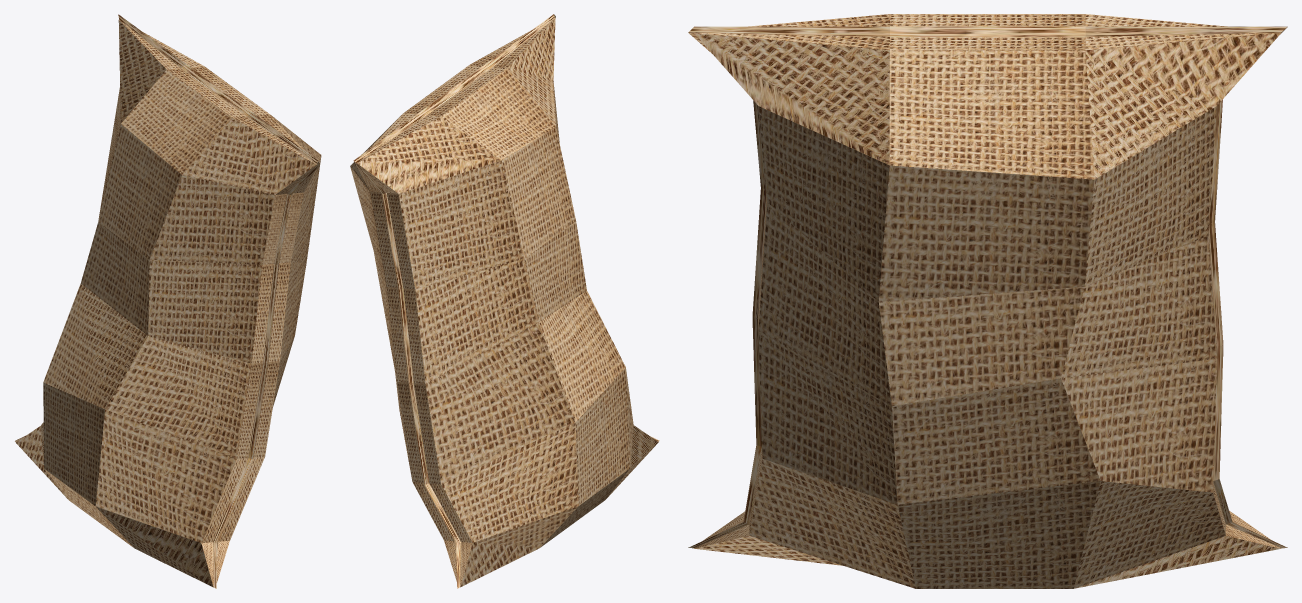
File: sack(big).fbx
The picture shows the model from 3 angles, left to right: view 1: azimuth 30°, elevation 25°; view 2: azimuth 150°, elevation 25°; view 3: azimuth 270°, elevation 25°; orthographic projection. The views are drawn at different scales.
Visible parts, largest first — view 1: Cube; view 2: Cube; view 3: Cube.
Boxes of the visible parts, left/top/right/bottom form: Cube: left=15, top=14, right=321, bottom=588; Cube: left=350, top=14, right=659, bottom=588; Cube: left=688, top=14, right=1287, bottom=588.
Bounding box in the file's own units: 267 × 481 × 428.
1 material, 1 textured.
